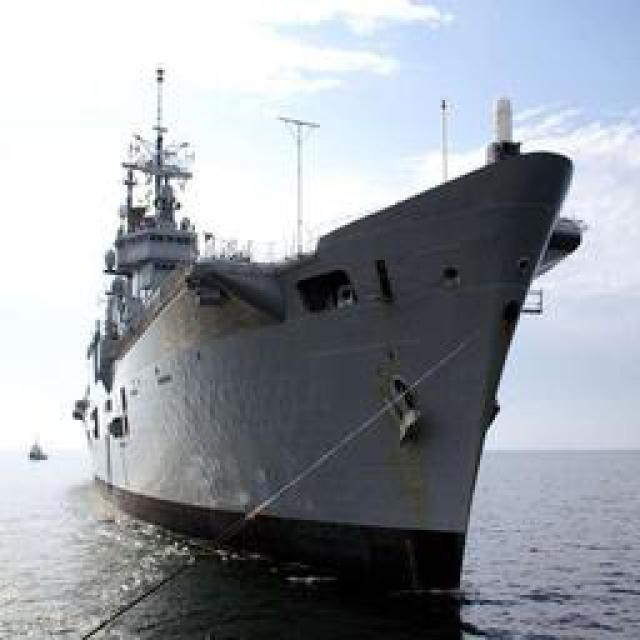Ship: (82, 55, 586, 577)
